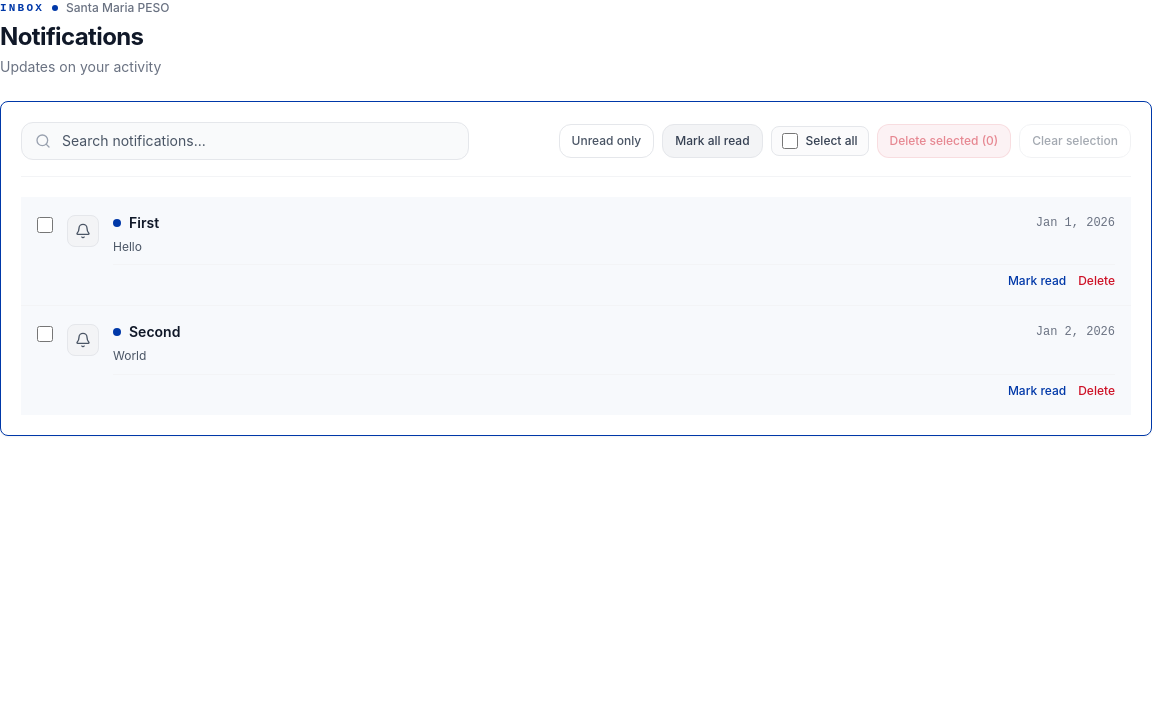
Test: NotificationsPage delete › partial failure removes only successes and shows error
expect the text "First" is shown: met, box [129,212,159,232]
Click the checkbox named "Select notification First" at (45, 224), box [37,216,53,232]
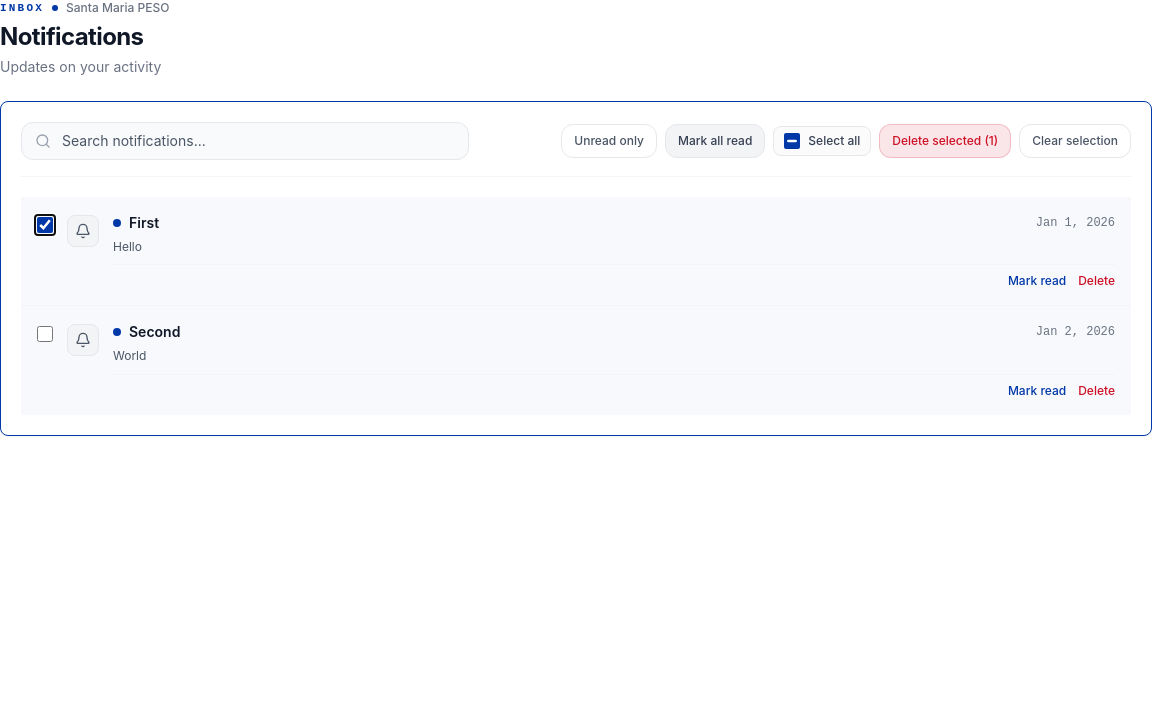
Click the checkbox named "Select notification Second" at (45, 334), box [37,326,53,342]
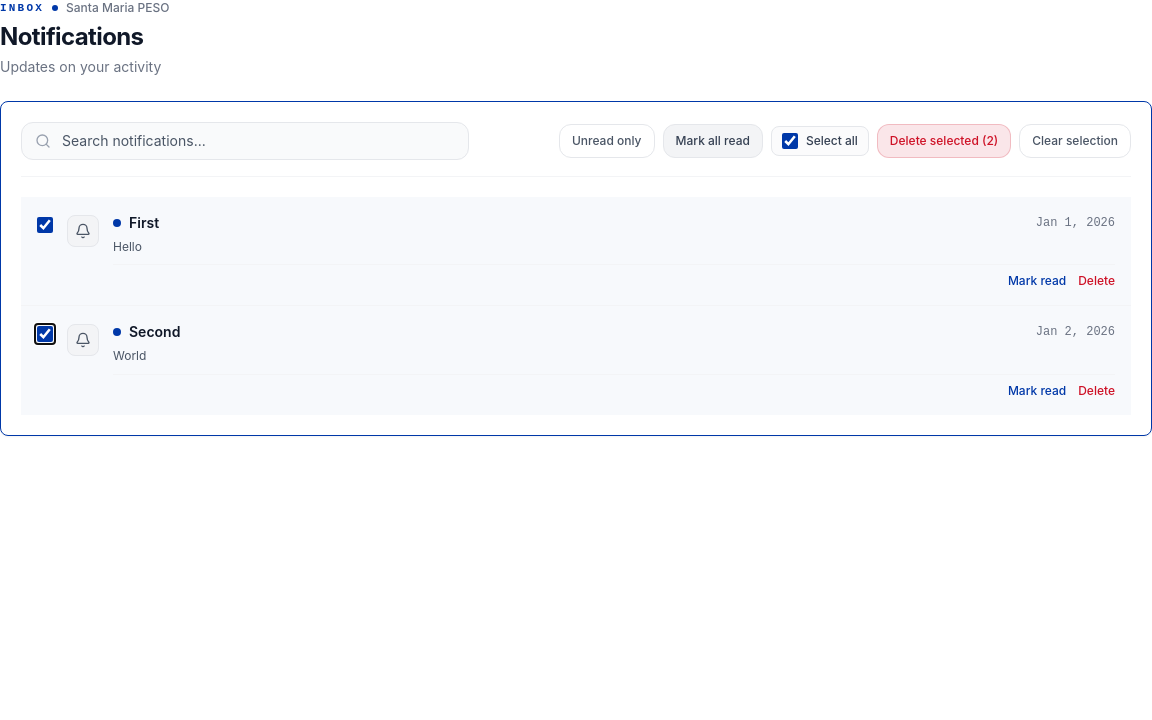
Click the button "Delete selected (2)" at (944, 140), box [877,124,1011,158]
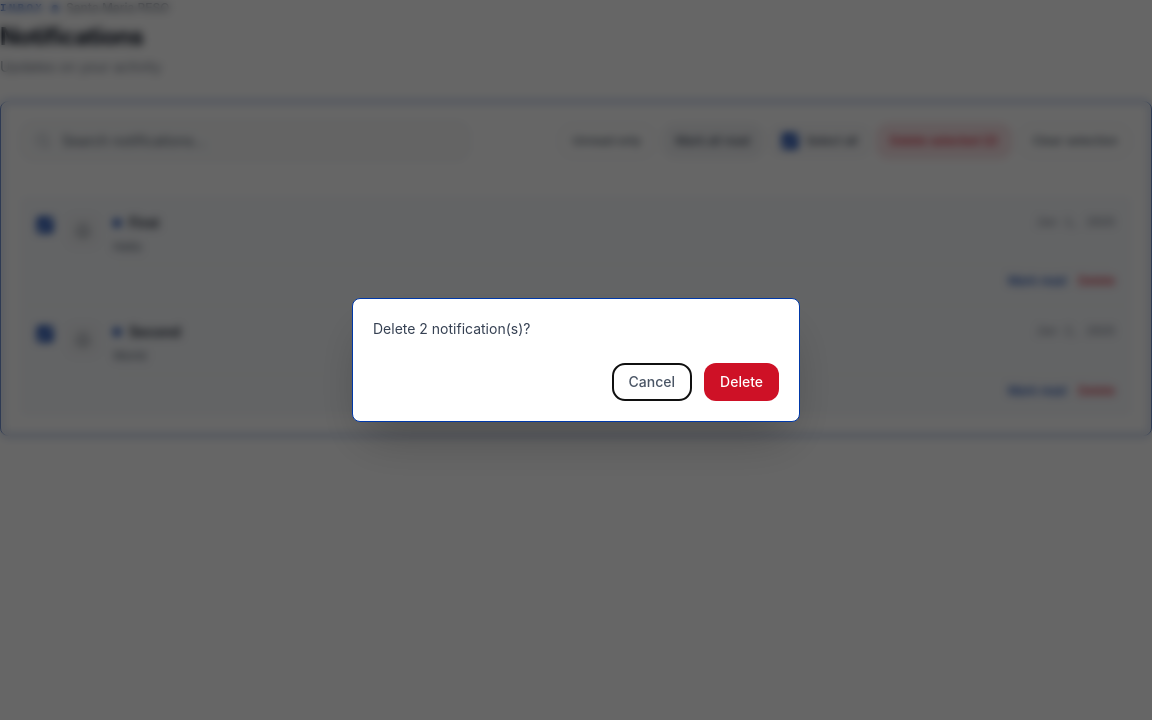
Click the button "Delete" at (742, 382), box [704,363,779,401]
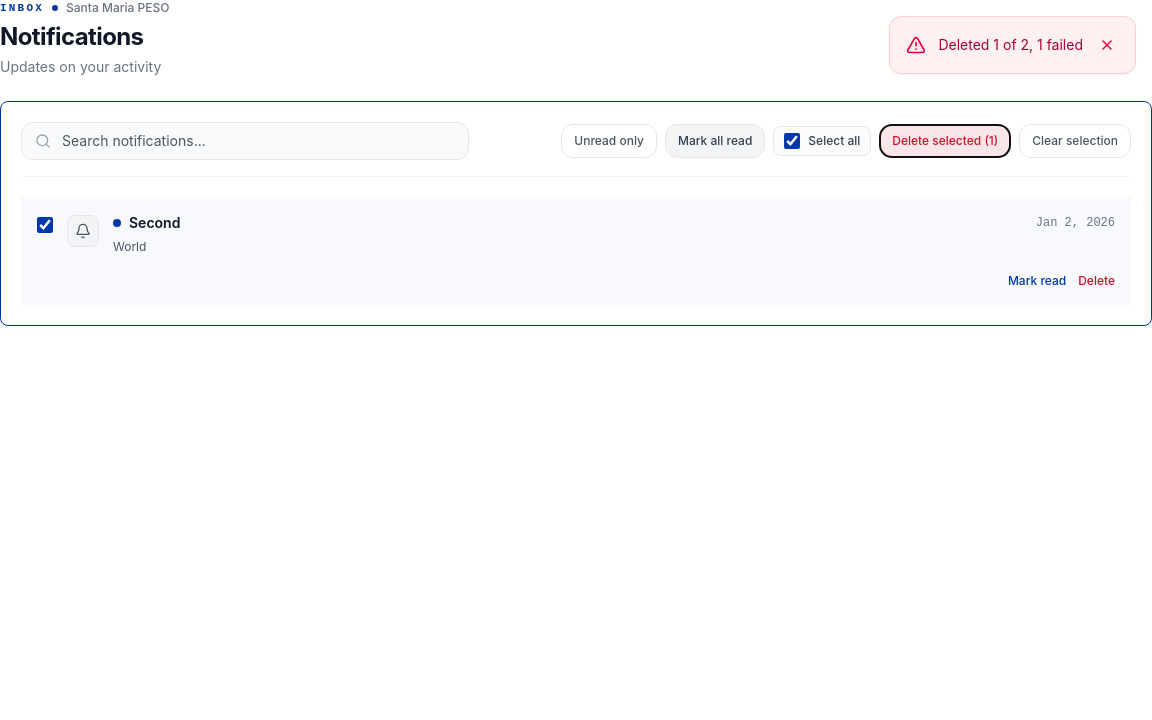
expect the text "First" is gone: met
expect the text "Deleted 1 of 2, 1 failed" is shown: met, box [938,35,1083,55]
expect the button "Delete selected (1)" is shown: met, box [879,124,1011,158]
